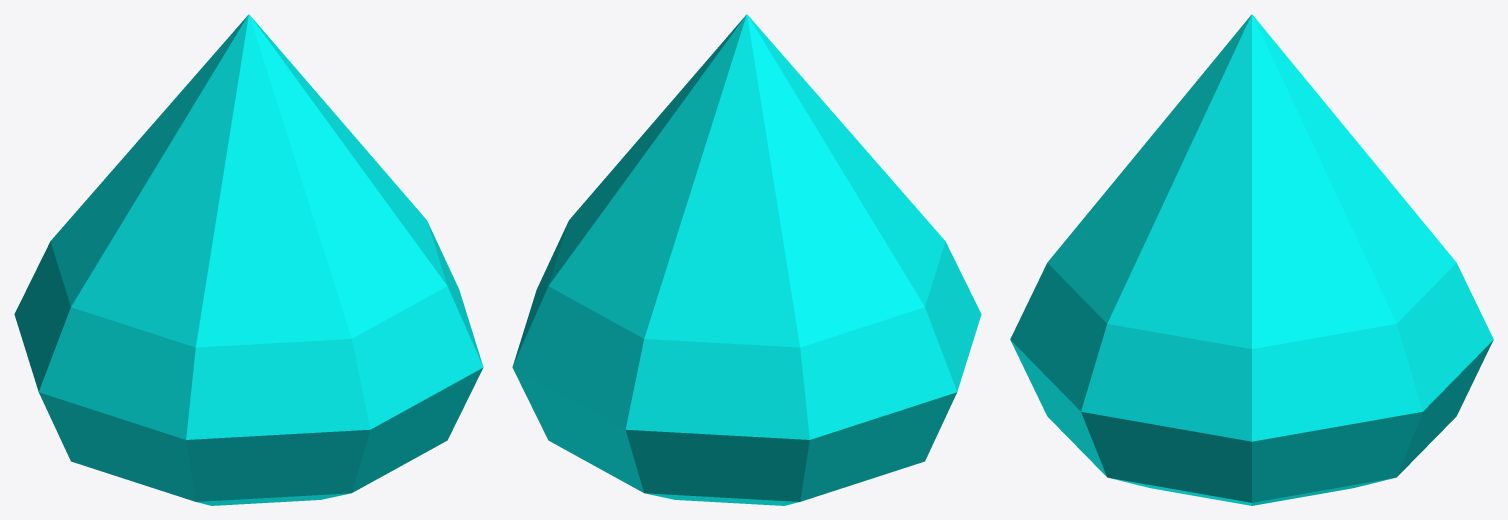
The model's file is Aquamarine.fbx.
The picture shows the model from 3 angles, left to right: view 1: azimuth 30°, elevation 25°; view 2: azimuth 150°, elevation 25°; view 3: azimuth 270°, elevation 25°; orthographic projection.
Parts seen in each view (by area): view 1: Aquamarine; view 2: Aquamarine; view 3: Aquamarine.
Boxes of the visible parts, box(x1,y1,x2,y2) form: Aquamarine: box(14, 14, 483, 505); Aquamarine: box(512, 14, 981, 505); Aquamarine: box(1010, 14, 1493, 505).
Size of the model in its own units: 200 by 196 by 200.
